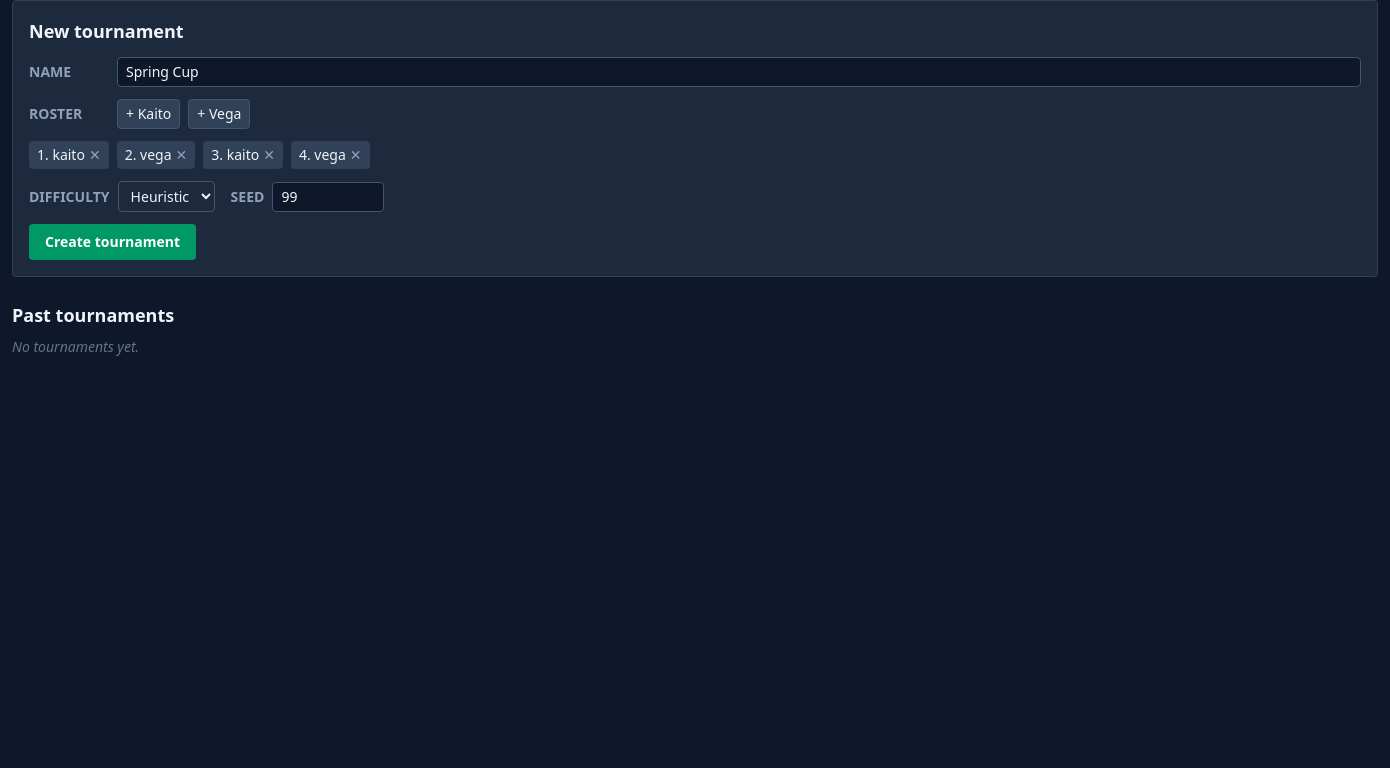
it: TournamentScreen › shows an API error without discarding the bracket on screen
This screenshot has width=1390, height=768.
Click the button with test id "create-tournament" at (112, 242), box [29,224,196,260]
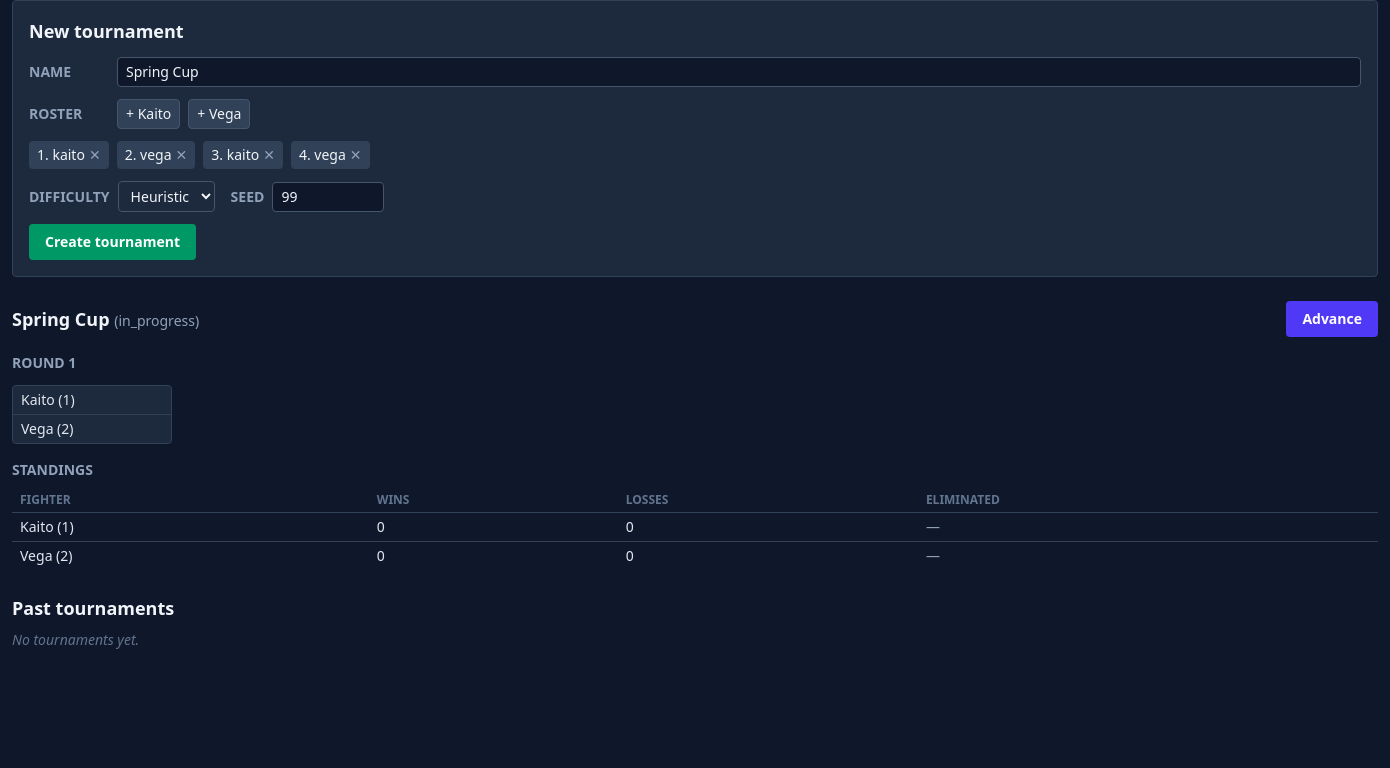
Click the button with test id "advance" at (1332, 319), box [1286,301,1378,337]
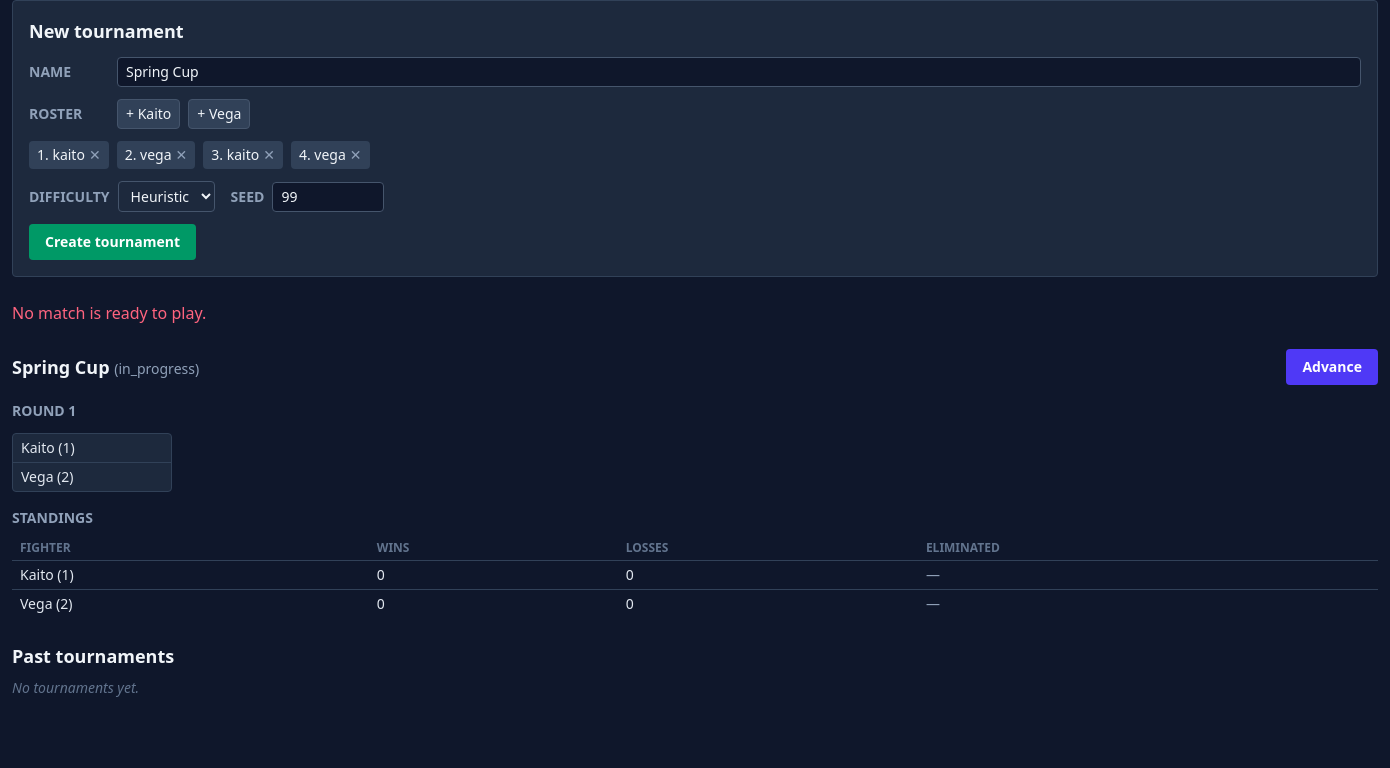
Now the element with test id "bracket" is shown, box [12,401,172,492]
Now the message reads "No match is ready to play.", box [12,302,206,324]
